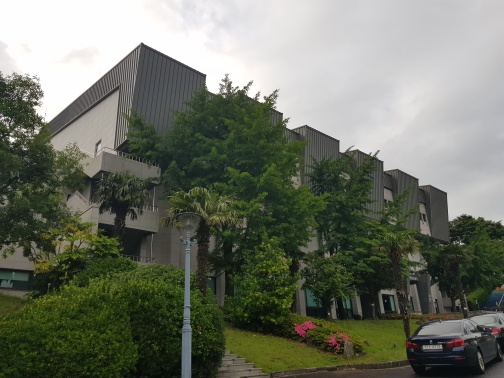Gym: (65, 50, 469, 312), (298, 122, 457, 245)
